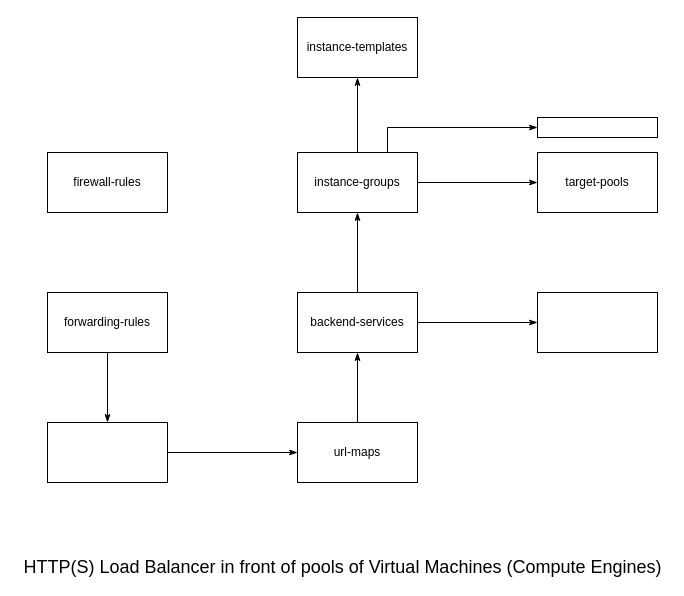
Image size: 684x596. Some labels were removed from this diagram. Here are the shapes that lost their labels. From the top down, the centre of each, then its label:
At point 597,127: "named-ports".
At point 597,322: "http-health-checks".
At point 107,452: "target-http-proxies".
